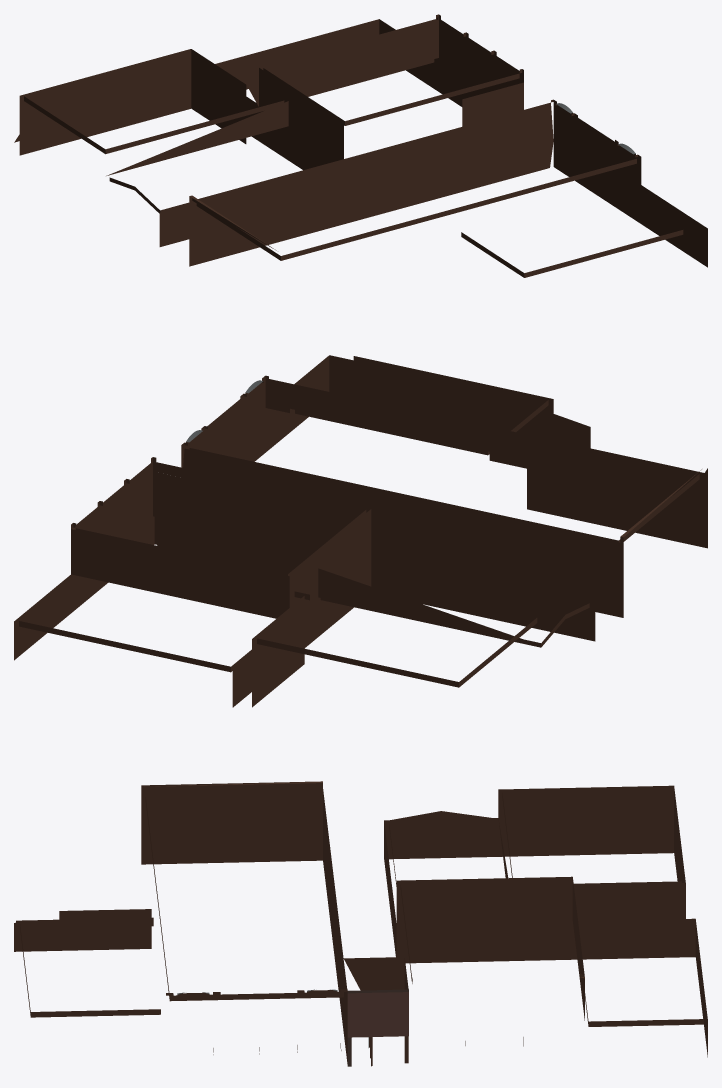
The model's file is 420-broad-street.glb.
The picture shows the model from 3 angles, top to bottom: view 1: azimuth 30°, elevation 25°; view 2: azimuth 150°, elevation 25°; view 3: azimuth 270°, elevation 25°; orthographic projection. The views are drawn at different scales.
Visible parts, largest first — view 1: LOD0; view 2: LOD0; view 3: LOD0.
Boxes of the visible parts, left/top/right/bottom form: LOD0: left=14, top=14, right=707, bottom=277; LOD0: left=14, top=355, right=707, bottom=707; LOD0: left=14, top=781, right=707, bottom=1066.
Size of what is drawn, in the model's own units: 66.81 by 12 by 86.35.
Materials: 2 (2 with a texture image).
